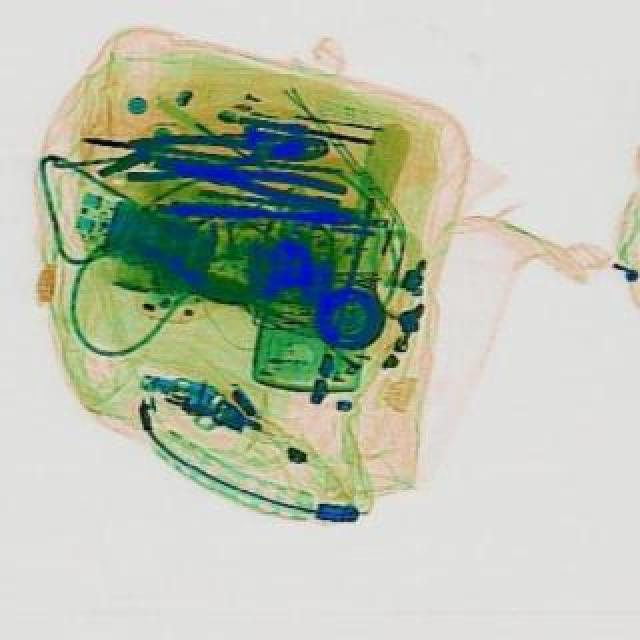wrench: (156, 144, 352, 220), (128, 128, 334, 186)
